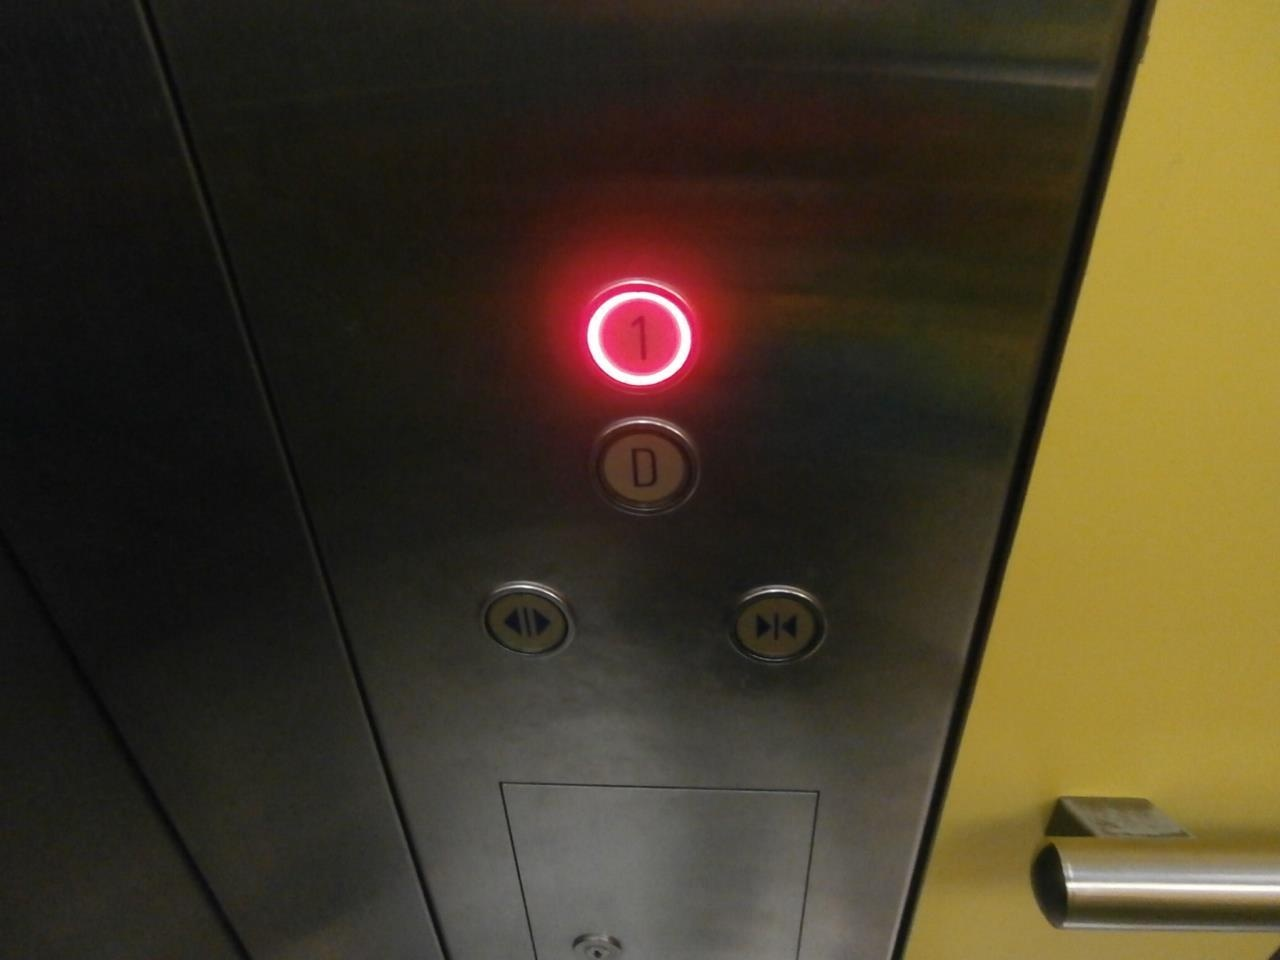1: (571, 274, 714, 402)
D: (570, 410, 709, 526)
close: (717, 573, 836, 669)
open: (470, 573, 586, 666)
